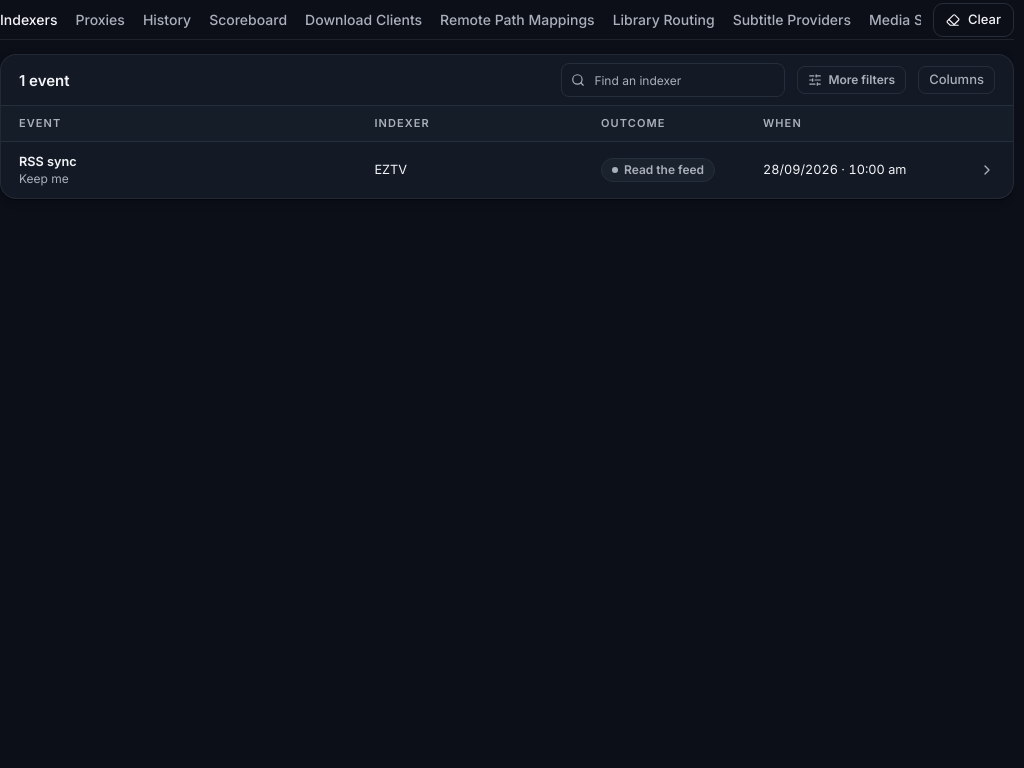
Indexer History's list, drawer and clear (#1329) › confirming Clear posts it, says it is cleared, empties the list and reads again; a failure says so and keeps the list
What coordinates should you click on to do the following:
click the button "Clear"
I would click on:
 (974, 20)
Its box is [933,2,1014,36].
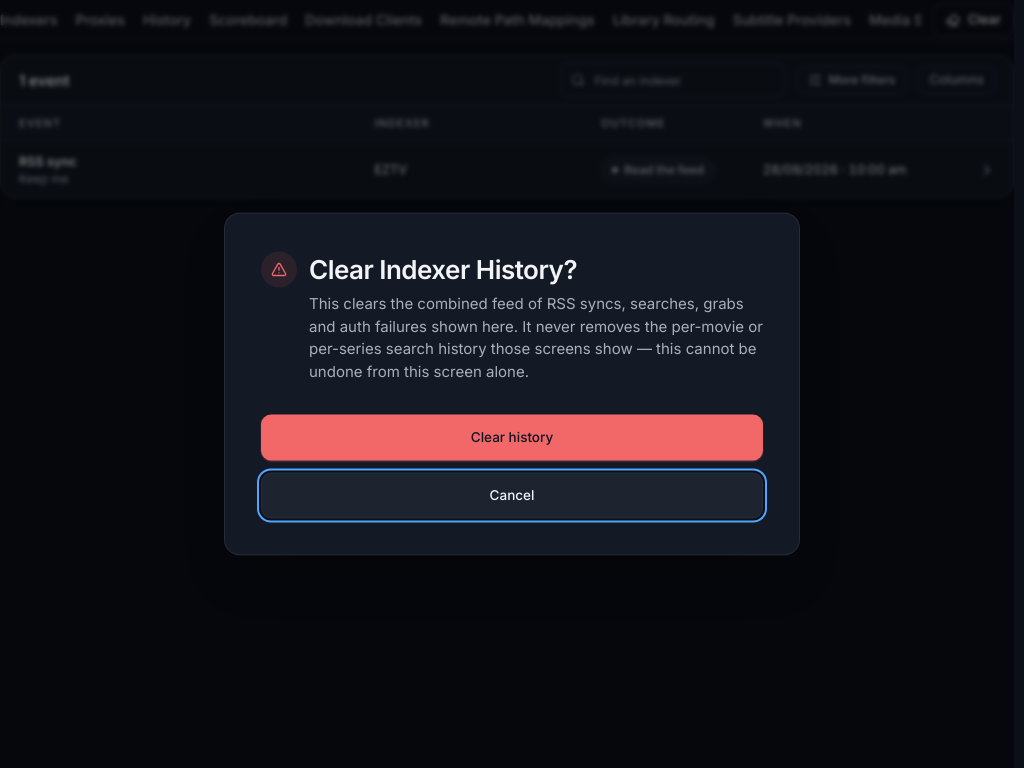
What coordinates should you click on to do the following:
click the button "Clear history"
I would click on:
 (512, 438)
Its box is [261,414,763,460].
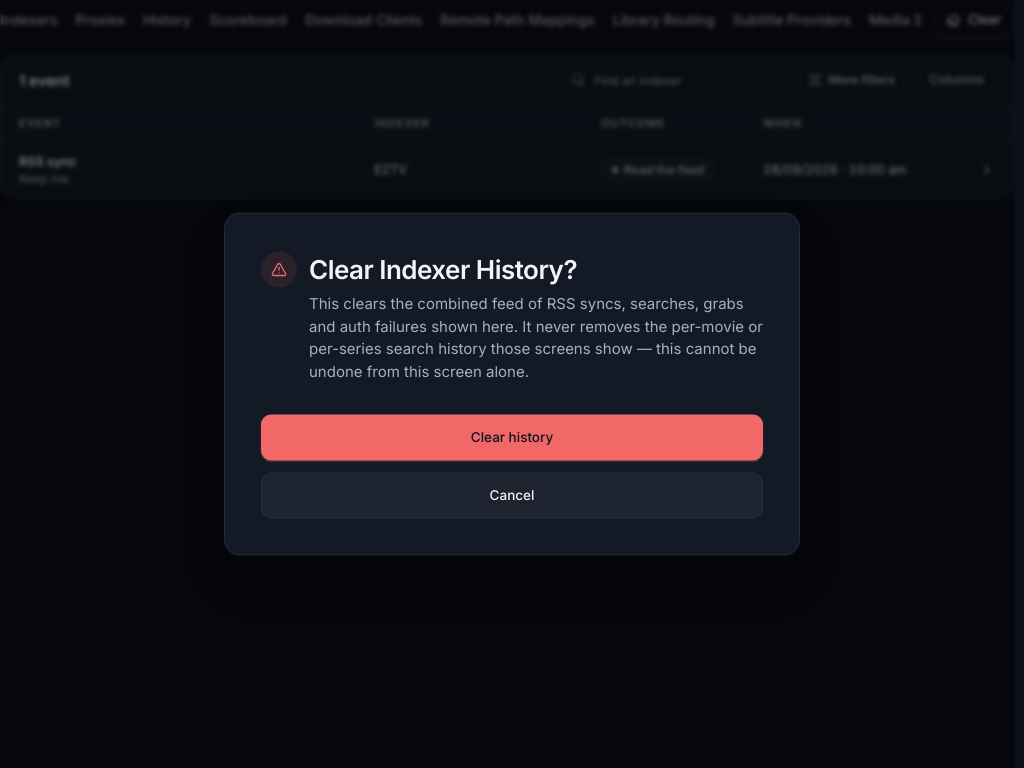
Check: the text "Keep me" is shown, box [19,171,69,186]
What coordinates should you click on to do the following:
click the button "Clear history"
I would click on:
 (512, 438)
Its box is [261,414,763,460].
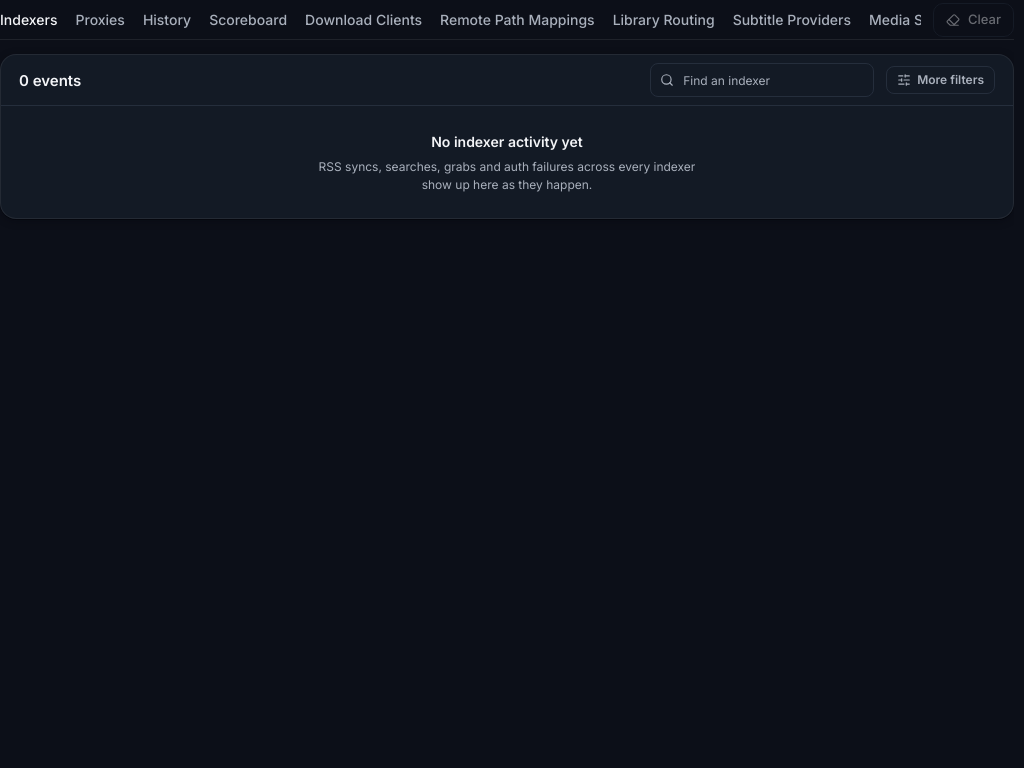
Check: the text "Keep me" is gone
Check: the text "No indexer activity yet" is shown, box [431,130,583,152]
